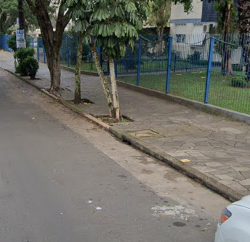vag67: (3, 53, 184, 183)
